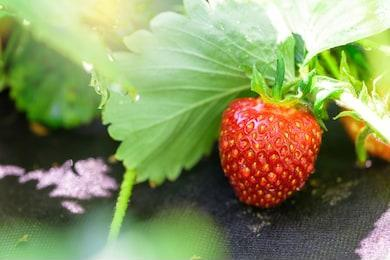Fresa: (209, 79, 329, 216)
